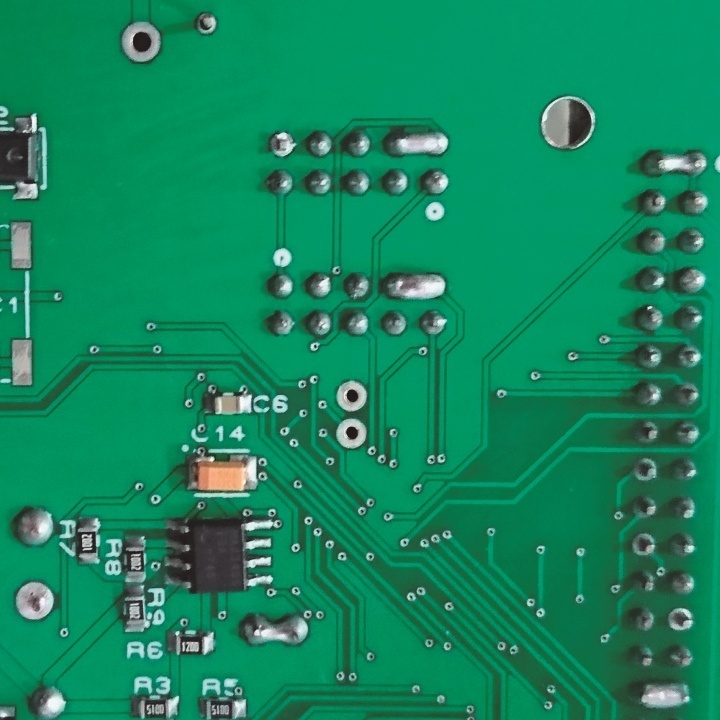F: (9, 579, 58, 627), (120, 18, 162, 66), (333, 417, 367, 455), (335, 377, 367, 415), (269, 127, 295, 160), (190, 11, 218, 38), (669, 607, 695, 635), (632, 456, 657, 484), (632, 532, 653, 559)
P: (239, 612, 311, 653), (384, 127, 453, 160), (383, 270, 451, 301), (634, 679, 697, 712), (641, 149, 707, 175)
